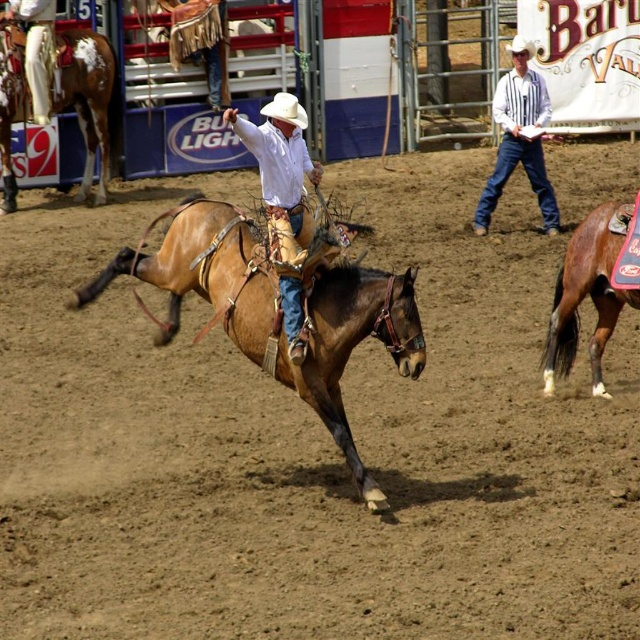Horse: (65, 193, 426, 511), (0, 9, 121, 216), (535, 200, 640, 402)
